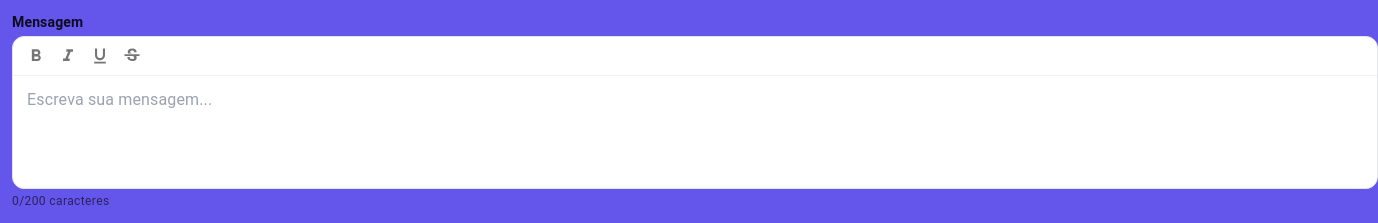
it: MessageEditor › applies italic live from the toolbar and stores it with markers
The width and height of the screenshot is (1378, 223).
Click the field named "Mensagem" at (695, 132), box [13, 76, 1377, 188]
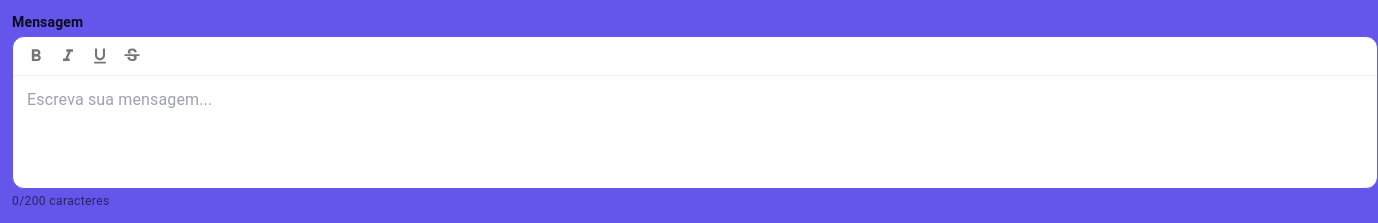
Note: Liga o itálico e digita: o texto já nasce em itálico, direto no campo.
Click the button named "Itálico" at (68, 56), box [53, 41, 83, 71]
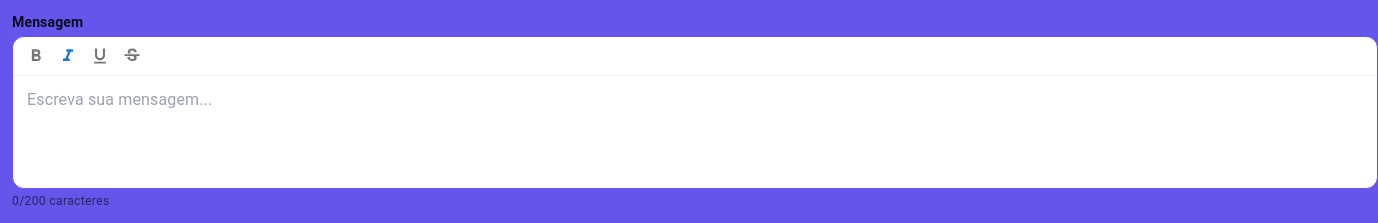
Type keys "destaque"
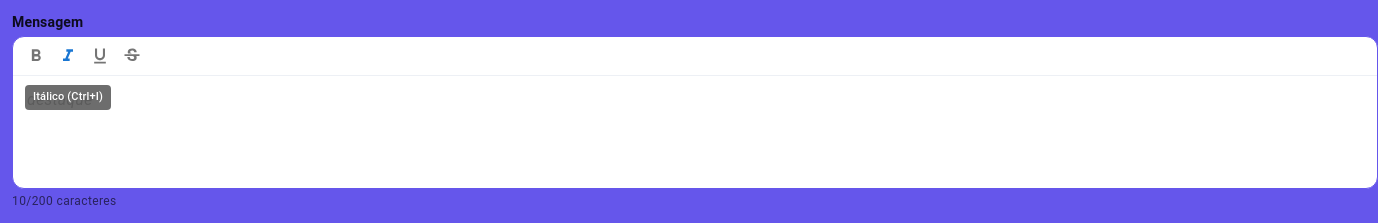
Expected: the text box labelled "destaque" is shown, [27, 90, 92, 109]
